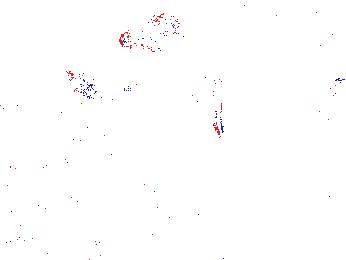glassfish: (201, 70, 228, 142)
red belly glassfish: (145, 47, 164, 57)
redtail glassfish: (255, 54, 343, 98), (117, 18, 183, 49), (299, 6, 346, 39)
